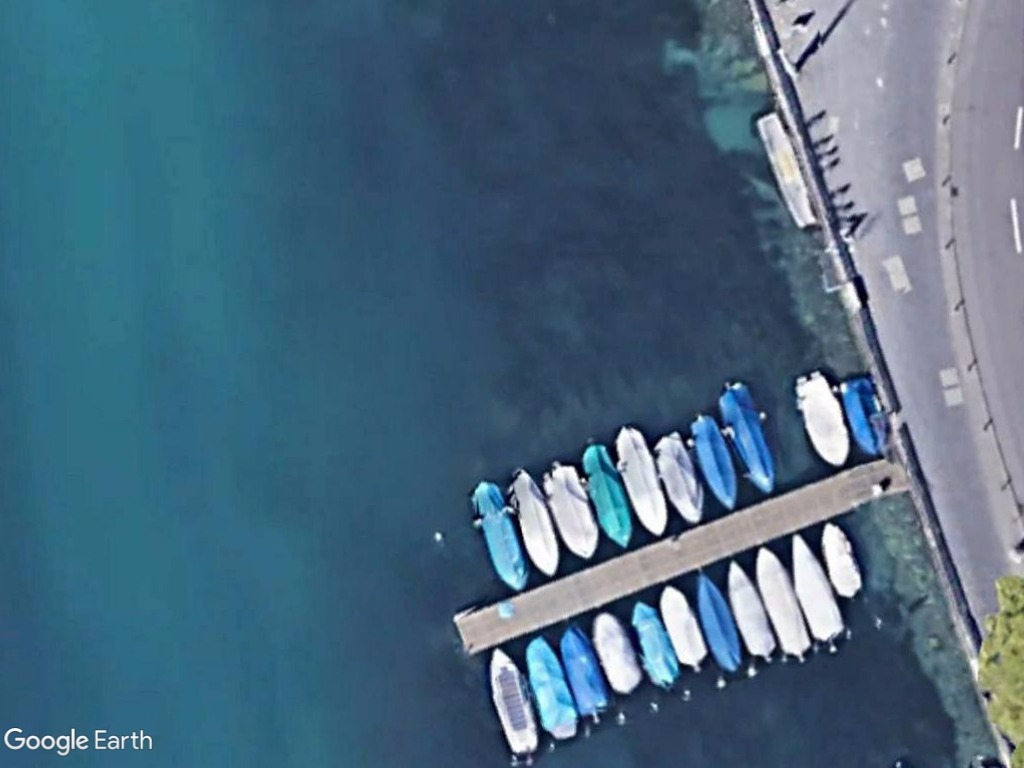boat: (713, 379, 780, 495), (752, 543, 816, 663), (610, 421, 674, 540), (468, 478, 533, 594), (540, 457, 604, 564), (789, 532, 849, 645), (505, 468, 563, 578), (524, 632, 582, 742), (577, 441, 636, 549), (685, 409, 745, 514), (649, 429, 713, 527), (722, 555, 779, 664), (486, 646, 541, 758), (793, 366, 851, 470), (692, 571, 750, 674), (558, 620, 611, 720), (630, 600, 685, 692), (589, 609, 645, 698), (656, 582, 710, 671)
